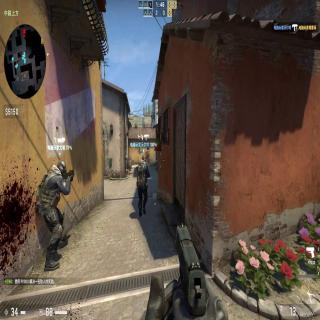CT-Body: (36, 160, 70, 271), (135, 155, 151, 218)
CT-Head: (57, 160, 67, 178), (140, 156, 146, 163)
